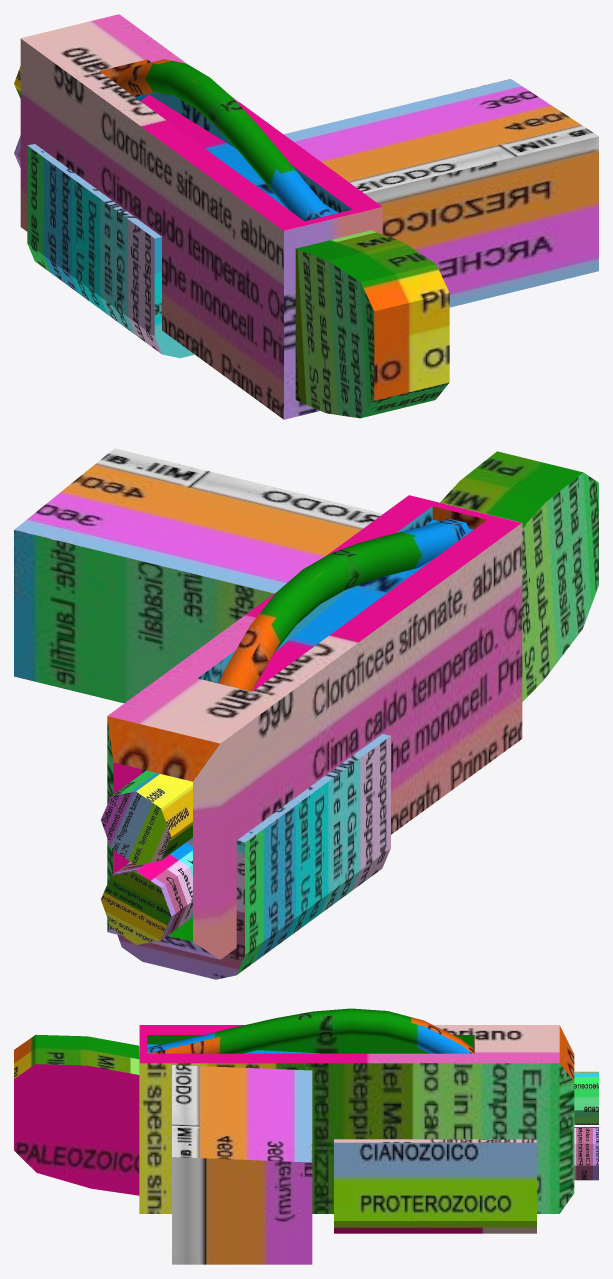
The model's file is shotgun1.glb.
3 views of the same model, one above another, from view 1: azimuth 30°, elevation 25°; view 2: azimuth 150°, elevation 25°; view 3: azimuth 270°, elevation 25° (orthographic). The views are drawn at different scales.
Visible parts, largest first — view 1: BézierCurve.001; view 2: BézierCurve.001; view 3: BézierCurve.001.
Part boxes in pixels (x1,y1,x2,y2): BézierCurve.001: [14, 14, 598, 419]; BézierCurve.001: [14, 448, 598, 979]; BézierCurve.001: [14, 1008, 598, 1264].
Size of the model in its own units: 0.9119 by 0.6688 by 1.69.
1 material, 1 textured.
